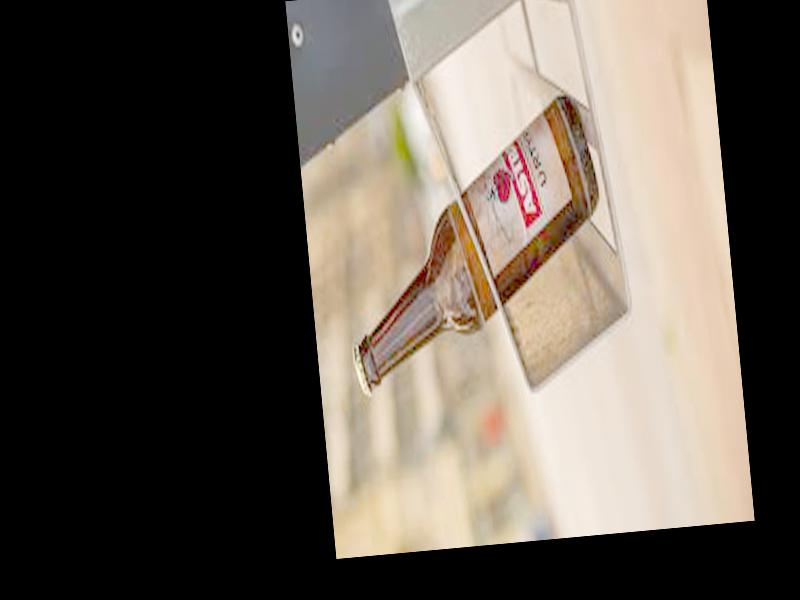Beer: (329, 89, 616, 400)
